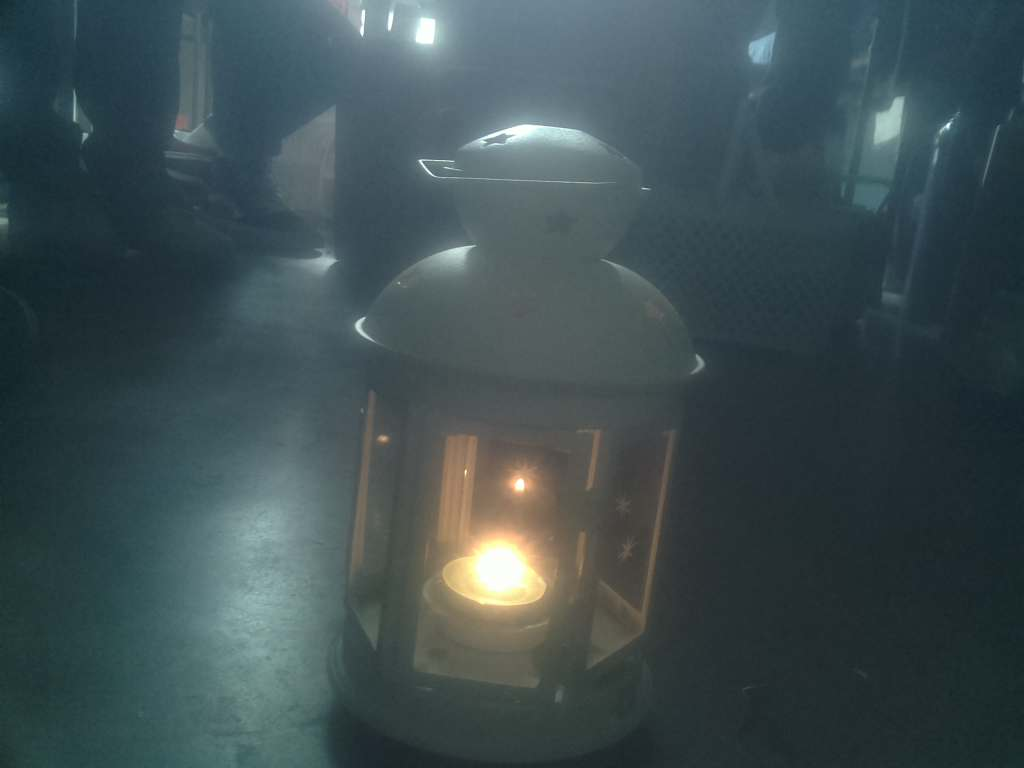fire: (422, 522, 564, 647)
